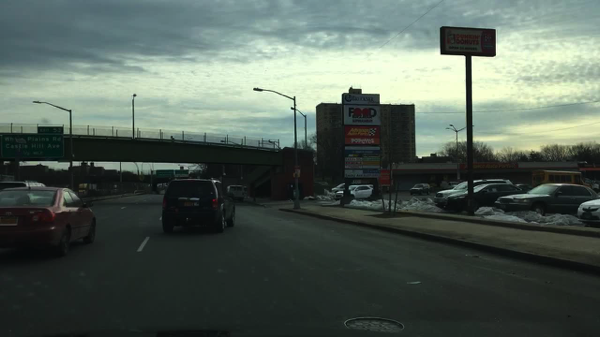bus: (529, 169, 591, 188)
car: (0, 185, 96, 256), (162, 178, 236, 234), (493, 182, 598, 217), (433, 178, 512, 208), (441, 184, 521, 213), (334, 185, 375, 201), (577, 198, 599, 226), (0, 181, 47, 191), (226, 184, 245, 204), (408, 183, 431, 196), (330, 182, 344, 194), (520, 182, 533, 193)
traffic sign: (1, 132, 65, 160), (37, 125, 65, 135), (155, 169, 173, 180), (173, 169, 190, 177)
truck: (218, 175, 239, 195), (77, 182, 100, 197)
